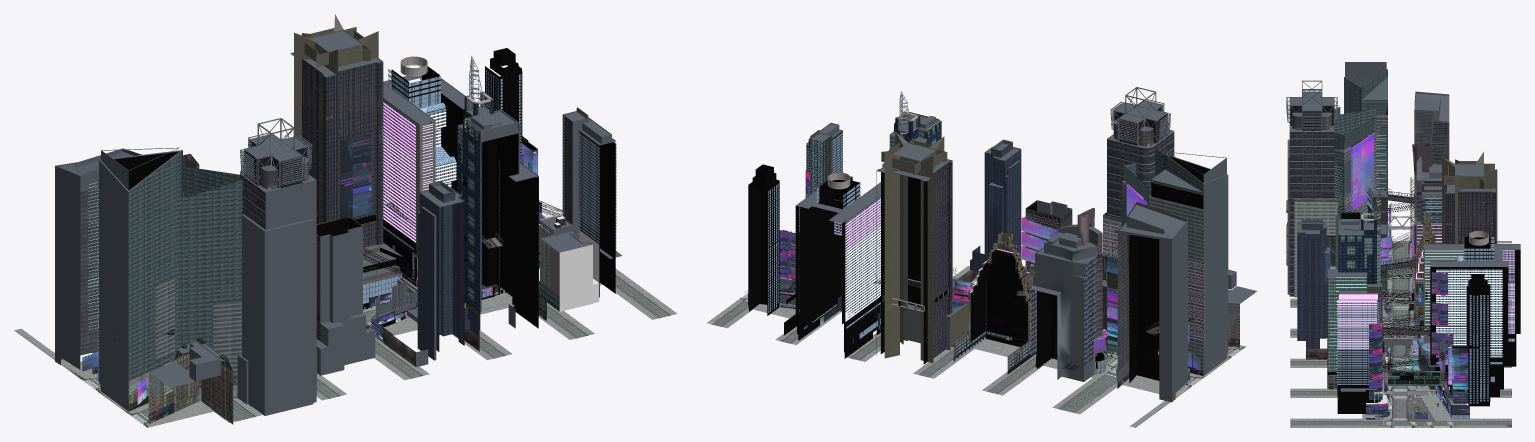
File: anshdemand-v1.glb
The picture shows the model from 3 angles, left to right: view 1: azimuth 30°, elevation 25°; view 2: azimuth 150°, elevation 25°; view 3: azimuth 270°, elevation 25°; orthographic projection. The views are drawn at different scales.
Parts seen in each view (by area): view 1: Object_180, Object_138, Object_26, Object_180.002, Object_41, Object_180.001, Object_113, Object_104, Object_17, Object_32, Object_38, Object_44 (+8 smaller); view 2: Object_26, Object_180, Object_41, Object_104, Object_32, Object_44, Object_113, Object_17, Object_38, Object_180.001, Object_44.002, Object_186 (+7 smaller); view 3: Object_180, Object_17, Object_32, Object_41, Object_44, Object_26, Object_180.002, Object_38, Object_180.001, Object_44.001, Object_104, Object_11.033 (+35 smaller).
Boxes of the visible parts, x1,y1,x2,y2 form: Object_180: (80,58,538,360); Object_138: (237,56,518,415); Object_26: (114,66,615,328); Object_180.002: (175,166,251,406); Object_41: (92,14,491,424); Object_180.001: (114,150,182,404); Object_113: (99,147,396,411); Object_104: (55,30,382,369); Object_17: (363,66,616,342); Object_32: (14,214,677,427); Object_38: (59,118,315,381); Object_44: (355,48,536,309); Object_26: (749,156,1209,383); Object_180: (882,111,1187,370); Object_41: (827,101,1239,388); Object_104: (876,142,1187,402); Object_32: (706,266,1245,427); Object_44: (748,164,900,358); Object_113: (880,152,1257,375); Object_17: (768,133,1107,373); Object_38: (1107,87,1236,289); Object_180.001: (1149,154,1210,370); Object_44.002: (834,222,880,321); Object_186: (823,250,1200,380); Object_180: (1289,92,1495,371); Object_17: (1337,237,1514,419); Object_32: (1290,241,1511,427); Object_41: (1286,106,1514,343); Object_44: (1418,250,1520,404); Object_26: (1326,103,1502,413); Object_180.002: (1334,107,1376,223); Object_38: (1286,77,1448,267); Object_180.001: (1344,69,1387,232); Object_44.001: (1436,270,1502,357); Object_104: (1387,91,1495,287); Object_11.033: (1339,133,1373,210).
Size of the model in its own units: 29.8 by 20.82 by 15.74.
Materials: 34 (19 with a texture image).
